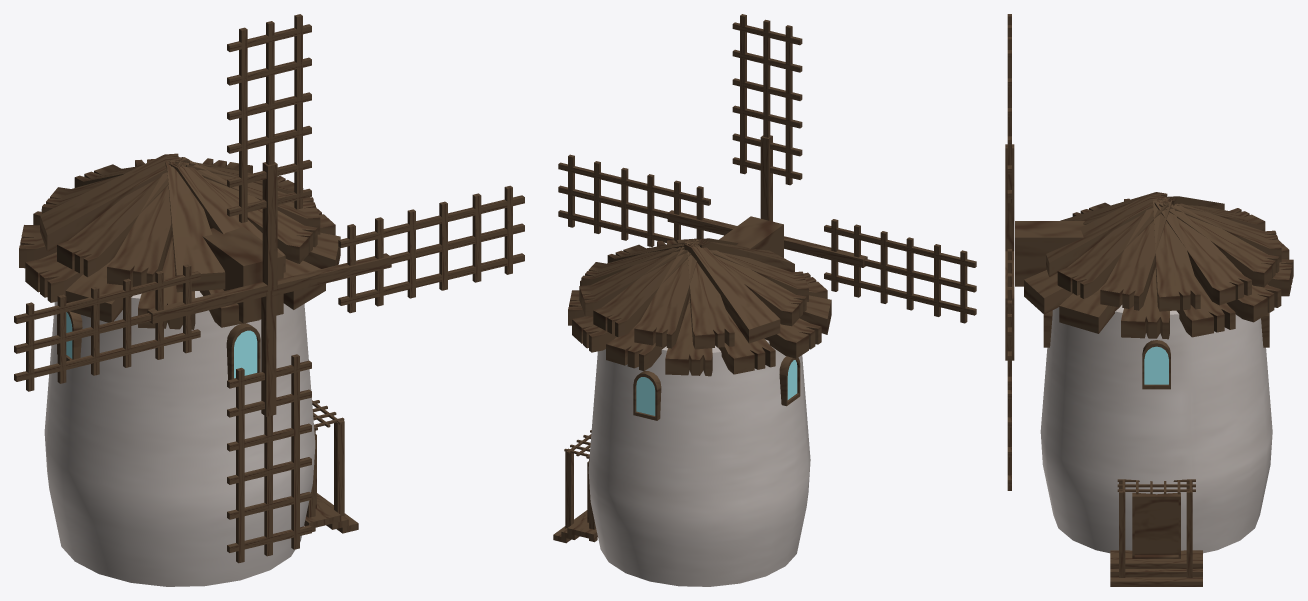
File: WindMill_large.fbx
3 views of the same model, side by side, from view 1: azimuth 30°, elevation 25°; view 2: azimuth 150°, elevation 25°; view 3: azimuth 270°, elevation 25° (orthographic). The views are drawn at different scales.
Visible parts, largest first — view 1: polySurface127, polySurface100; view 2: polySurface127, polySurface100; view 3: polySurface127, polySurface100.
Part boxes in pixels (left/top/right/bottom): polySurface127: left=19, top=153, right=358, bottom=586; polySurface100: left=14, top=14, right=524, bottom=563; polySurface127: left=553, top=216, right=831, bottom=586; polySurface100: left=558, top=14, right=976, bottom=323; polySurface127: left=1015, top=192, right=1293, bottom=586; polySurface100: left=1005, top=14, right=1014, bottom=490.
Size of the model in its own units: 3.66 by 4.03 by 2.11.
